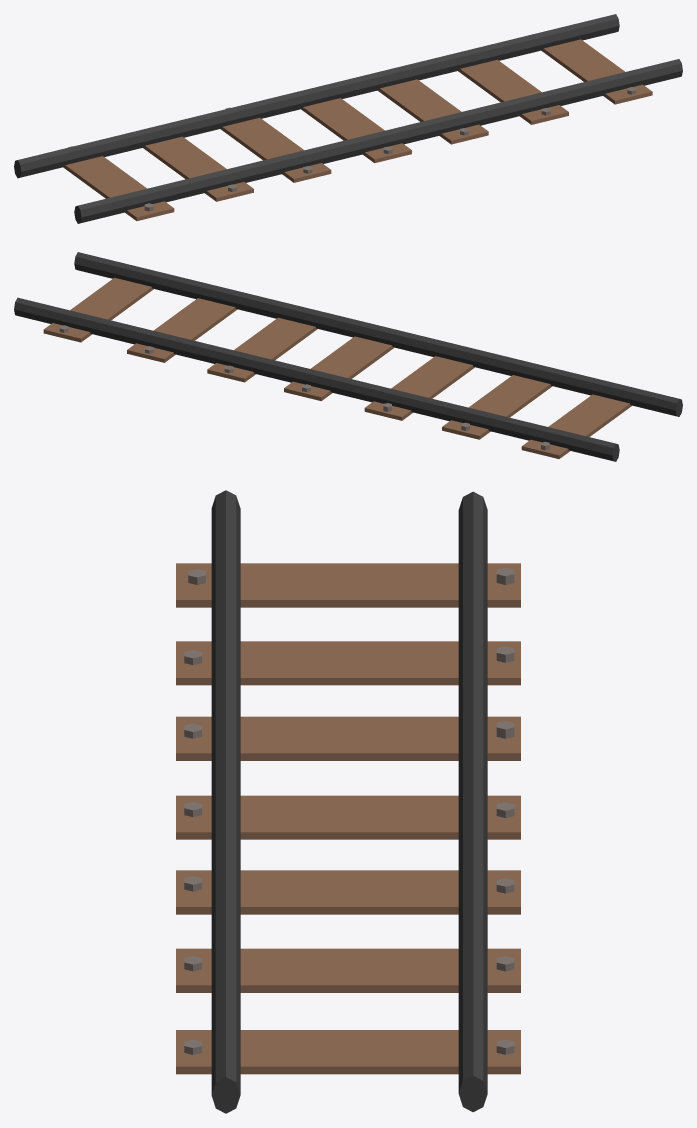
File: western_rail_alone.fbx
3 renders of one model, top to bottom at view 1: azimuth 30°, elevation 25°; view 2: azimuth 150°, elevation 25°; view 3: azimuth 270°, elevation 25°, orthographic. The views are drawn at different scales.
Parts seen in each view (by area): view 1: pCylinder18; view 2: pCylinder18; view 3: pCylinder18.
Part boxes in pixels (x1,y1,x2,y2): pCylinder18: [14, 14, 682, 223]; pCylinder18: [14, 252, 682, 461]; pCylinder18: [176, 490, 520, 1113].
Bounding box in the file's own units: 10.07 × 0.294 × 2.5.
